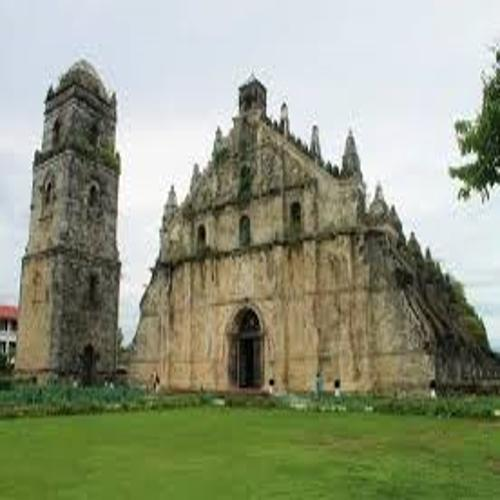Paoay Church: (6, 45, 490, 408)
